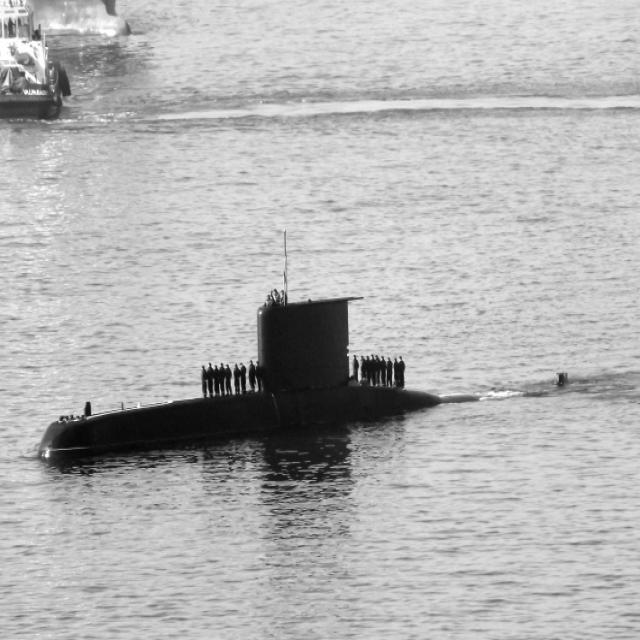submarine: (41, 296, 488, 467)
